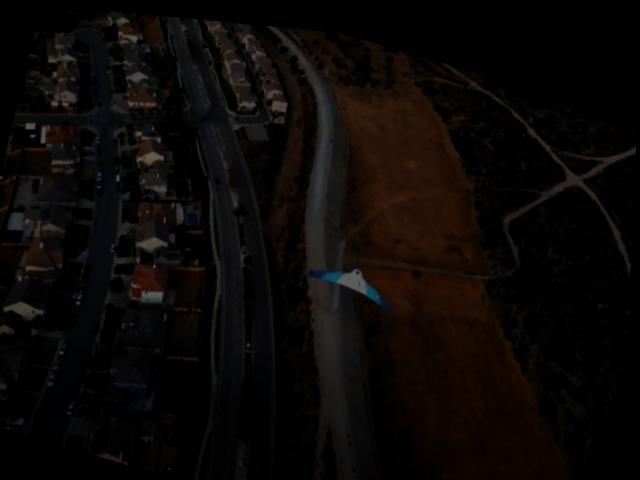iha: (307, 246, 399, 304)
